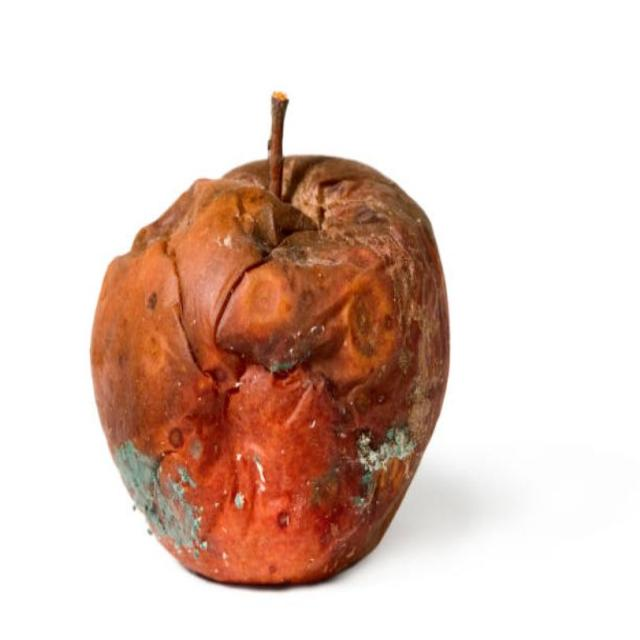Rotten Apple: (55, 115, 498, 615)
